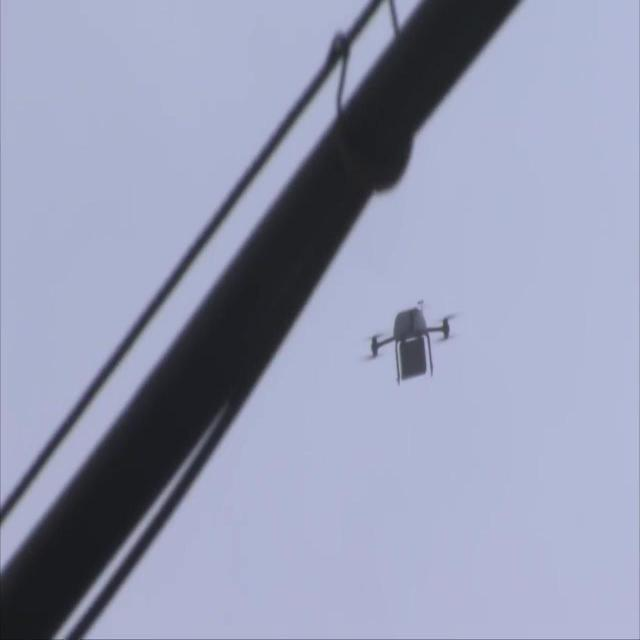drone: (360, 297, 460, 388)
